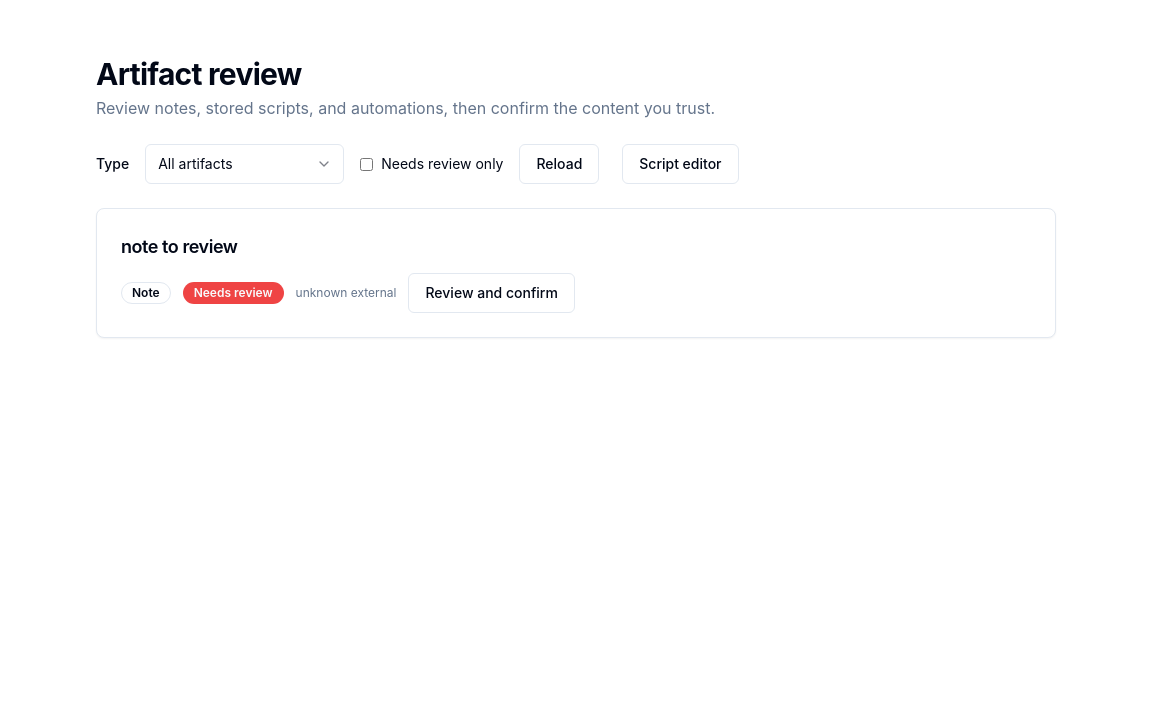
Test: Artifact review › confirms the full displayed note snapshot
Click the button "Review and confirm" at (492, 293), box left=408, top=273, right=575, bottom=313
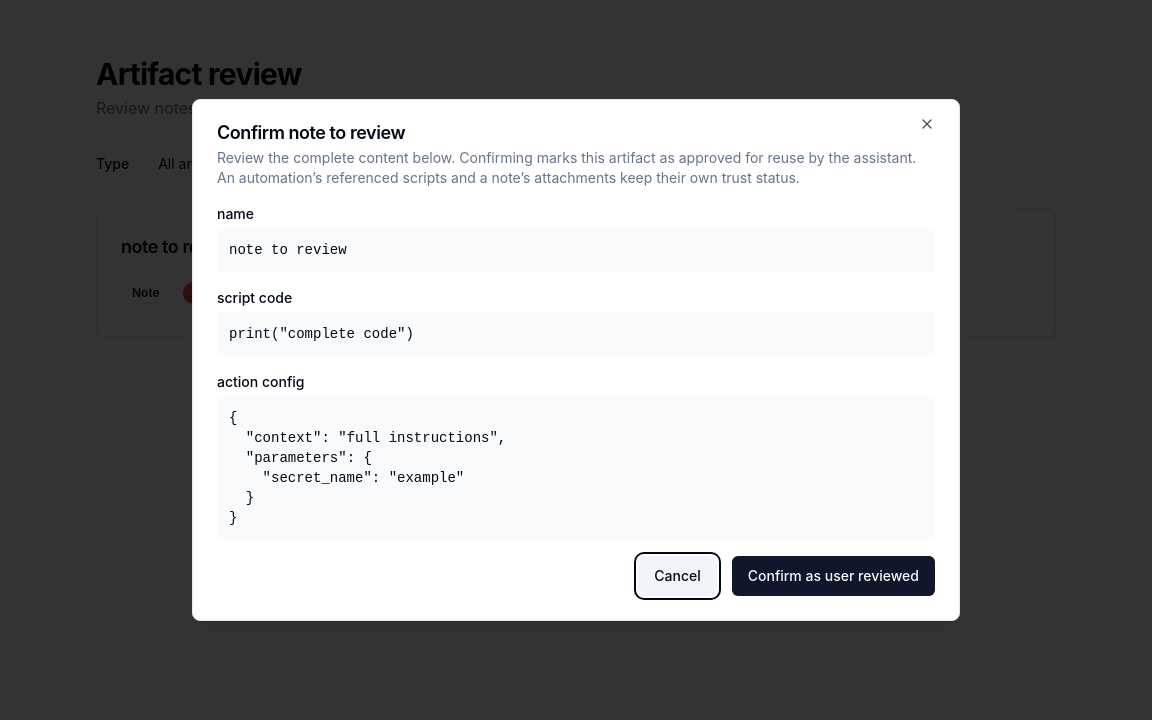
Expected: the text "print(\"complete code\")" is shown, left=217, top=312, right=935, bottom=356
Expected: the text "full instructions" is shown, left=229, top=410, right=506, bottom=526
Click the button "Confirm as user reviewed" at (833, 576), box left=732, top=556, right=935, bottom=596
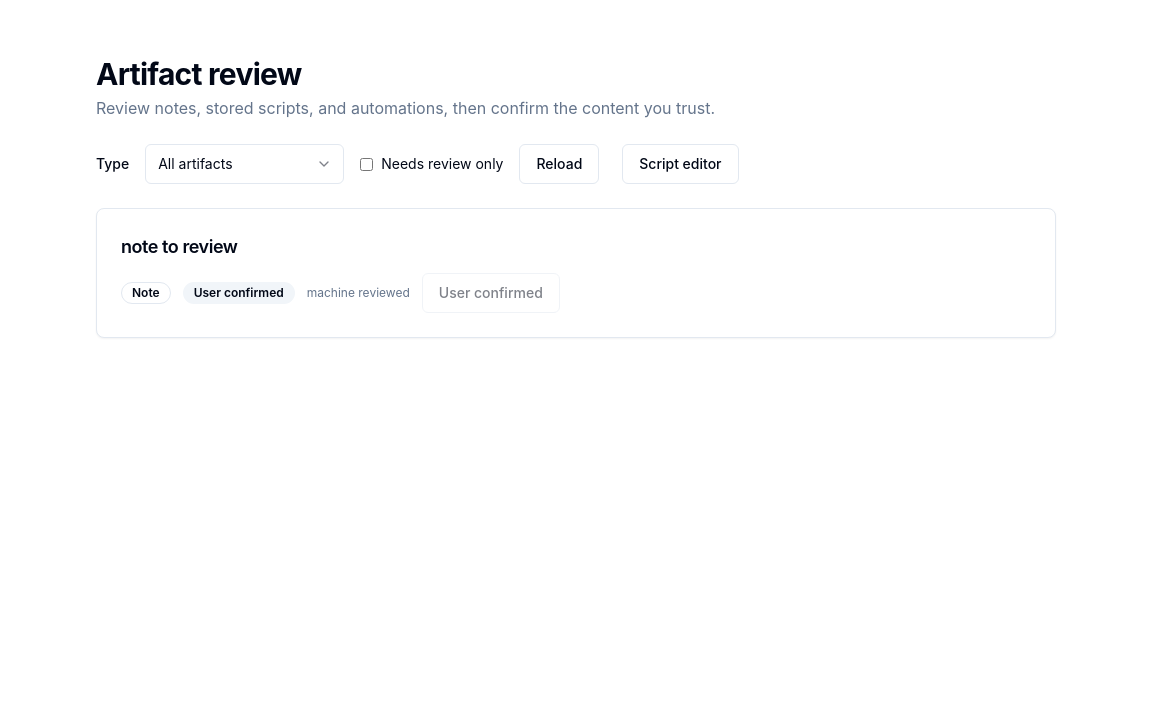
Expected: the dialog is gone
Expected: the button "User confirmed" is disabled, left=422, top=273, right=560, bottom=313
